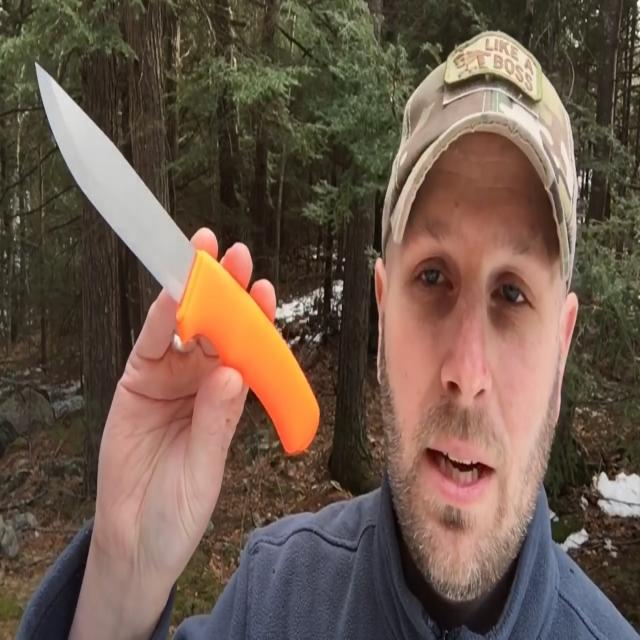knife: (31, 56, 323, 462)
